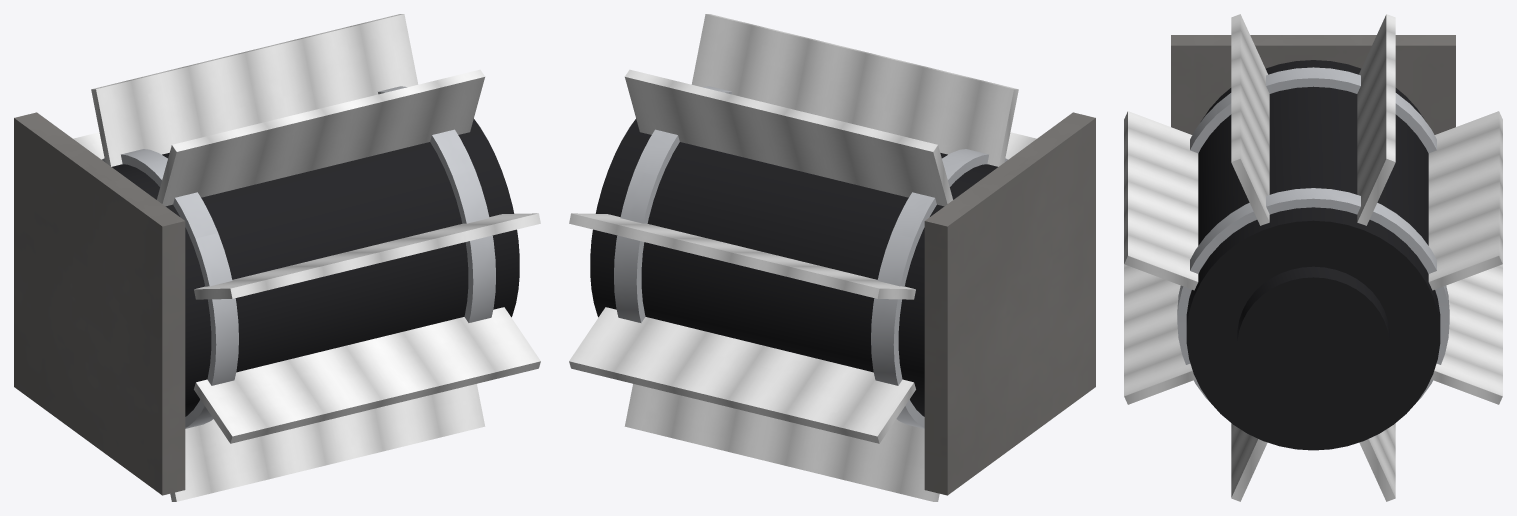
File: power03_mmrtg.glb
3 renders of one model, left to right at view 1: azimuth 30°, elevation 25°; view 2: azimuth 150°, elevation 25°; view 3: azimuth 270°, elevation 25°, orthographic. The views are drawn at different scales.
Visible parts, largest first — view 1: cooling_fins, mount_flange, generator_body, end_bands; view 2: cooling_fins, mount_flange, generator_body, end_bands; view 3: generator_body, cooling_fins, mount_flange, end_bands.
Boxes of the visible parts, x1,y1,x2,y2 form: cooling_fins: (73, 14, 540, 501); mount_flange: (14, 112, 185, 495); generator_body: (112, 118, 519, 416); end_bands: (102, 86, 495, 428); cooling_fins: (569, 14, 1036, 501); mount_flange: (924, 112, 1095, 495); generator_body: (590, 118, 997, 416); end_bands: (614, 86, 1007, 428); generator_body: (1186, 60, 1440, 450); cooling_fins: (1124, 14, 1502, 501); mount_flange: (1171, 35, 1455, 134); end_bands: (1177, 67, 1449, 400).
Bounding box in the file's own units: 0.68 × 0.5974 × 0.5974.
4 materials, 3 textured.
